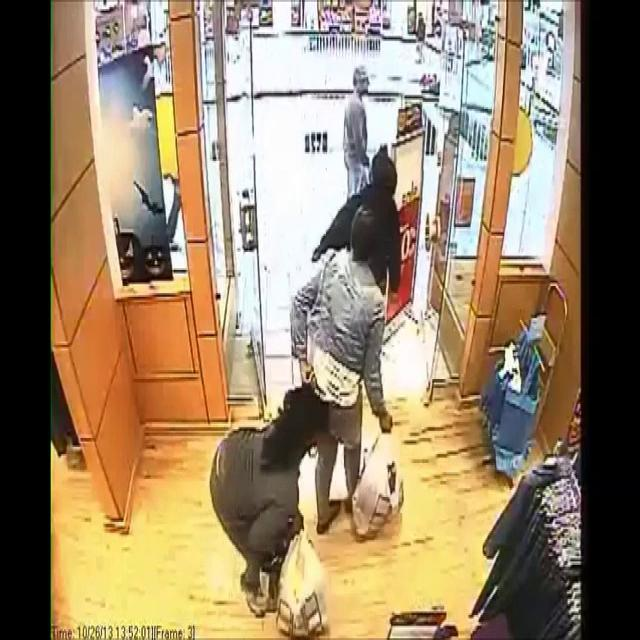normal: (299, 188, 402, 542), (214, 376, 336, 638), (362, 85, 412, 221), (343, 62, 383, 158)
